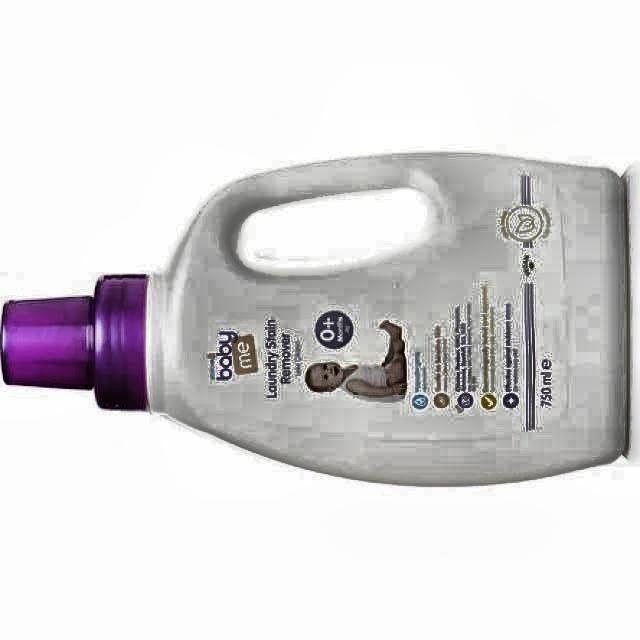plastic: (0, 154, 626, 484)
